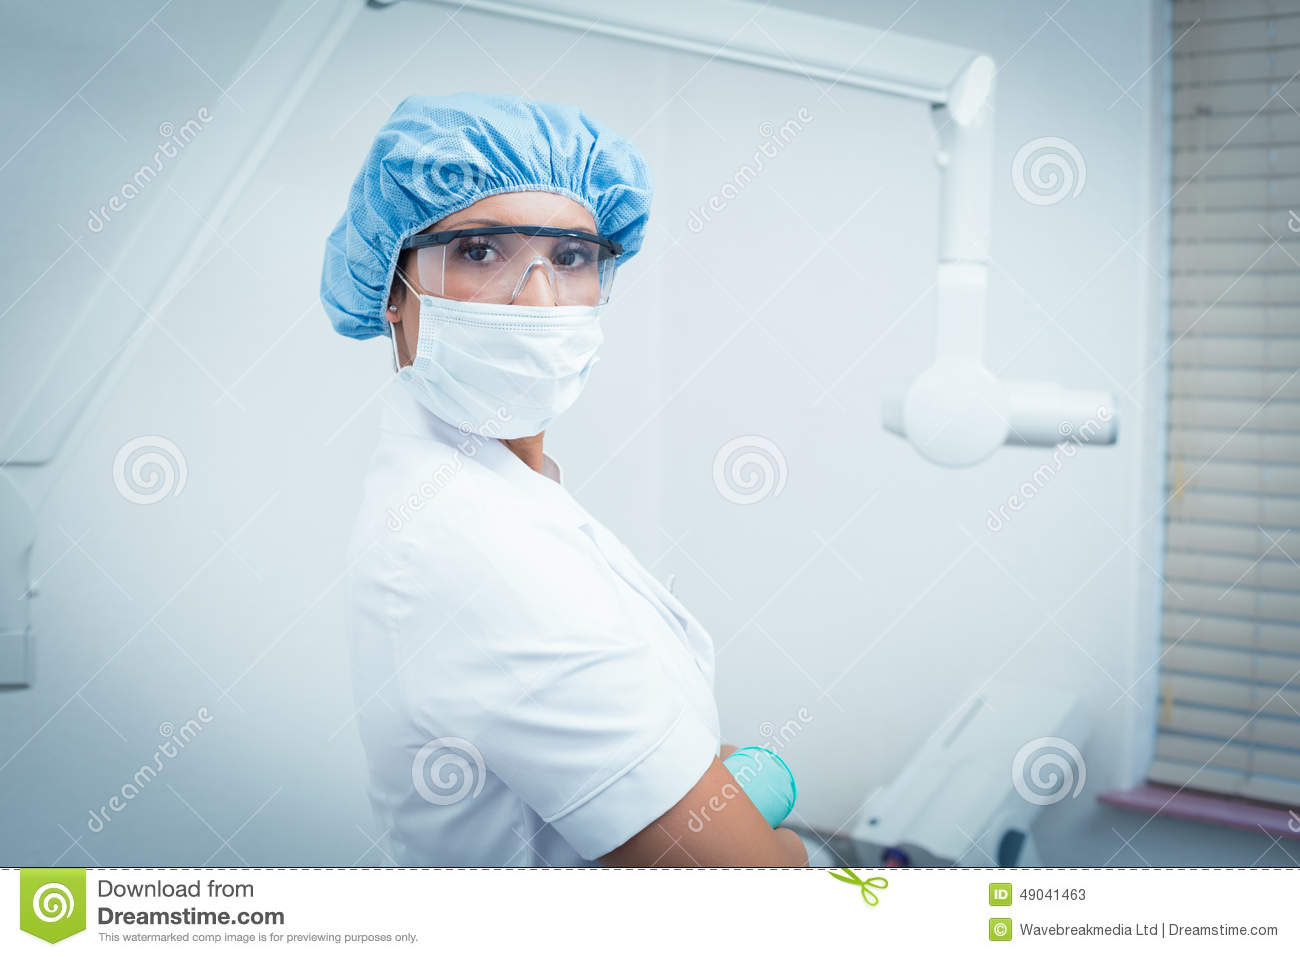mask: (394, 292, 620, 466)
